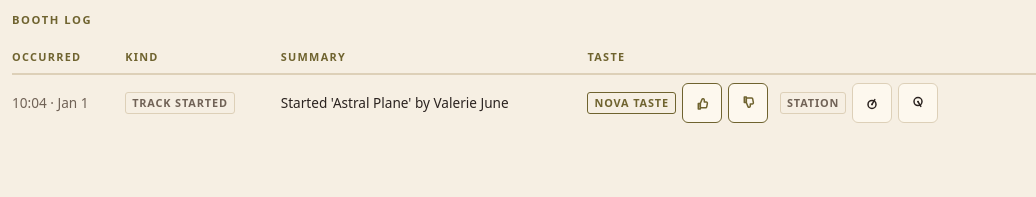
it: Feature: Persona taste thumbs › Scenario: settled state survives a poll that shifts row order (remount-survival) › keeps the tapped row's disabled direction after a later poll prepends a new head row
The width and height of the screenshot is (1036, 197).
What coordinates should you click on to do the following:
click the button named "Taste down for Nova"
I would click on:
 (748, 103)
Its box is [728, 83, 768, 123].
Wait 12000 ms
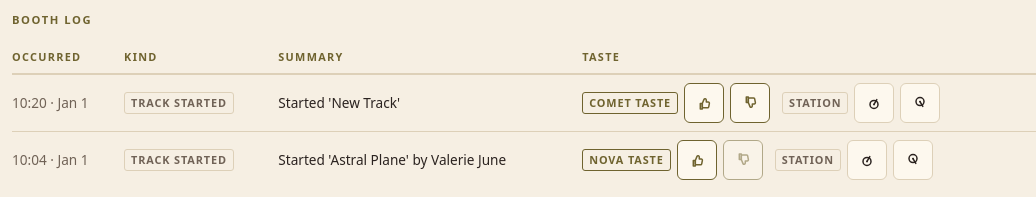
Expected: the text "Started 'New Track'" is shown, [278, 74, 582, 132]
Expected: the button named "Taste down for Nova" is disabled, [723, 140, 763, 180]
Expected: the button named "Taste up for Comet" is enabled, [684, 83, 724, 123]
